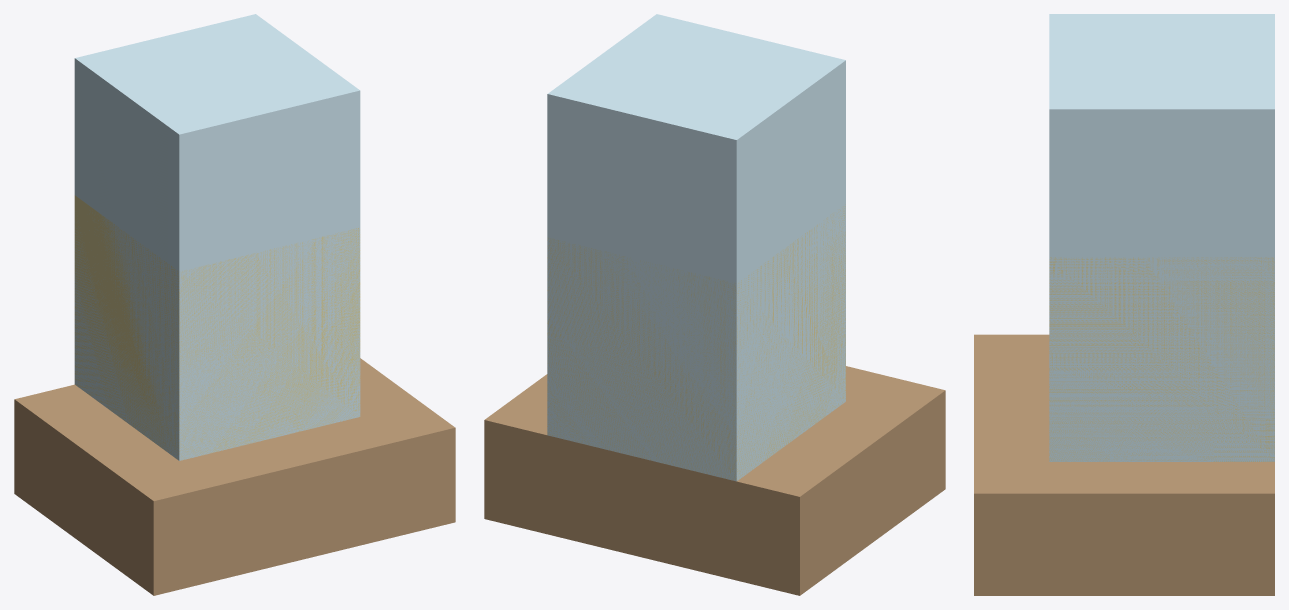
The model's file is Prop_Pet_AMF_Feeder_V10.glb.
The picture shows the model from 3 angles, left to right: view 1: azimuth 30°, elevation 25°; view 2: azimuth 150°, elevation 25°; view 3: azimuth 270°, elevation 25°; orthographic projection. The views are drawn at different scales.
Visible parts, largest first — view 1: Prop_Pet_AMF_Feeder_V10; view 2: Prop_Pet_AMF_Feeder_V10; view 3: Prop_Pet_AMF_Feeder_V10.
Part boxes in pixels (bbox=[...]): Prop_Pet_AMF_Feeder_V10: bbox=[14, 14, 455, 595]; Prop_Pet_AMF_Feeder_V10: bbox=[484, 14, 945, 595]; Prop_Pet_AMF_Feeder_V10: bbox=[974, 14, 1274, 595].
Bounding box in the file's own units: 0.5 × 0.667 × 0.4.
